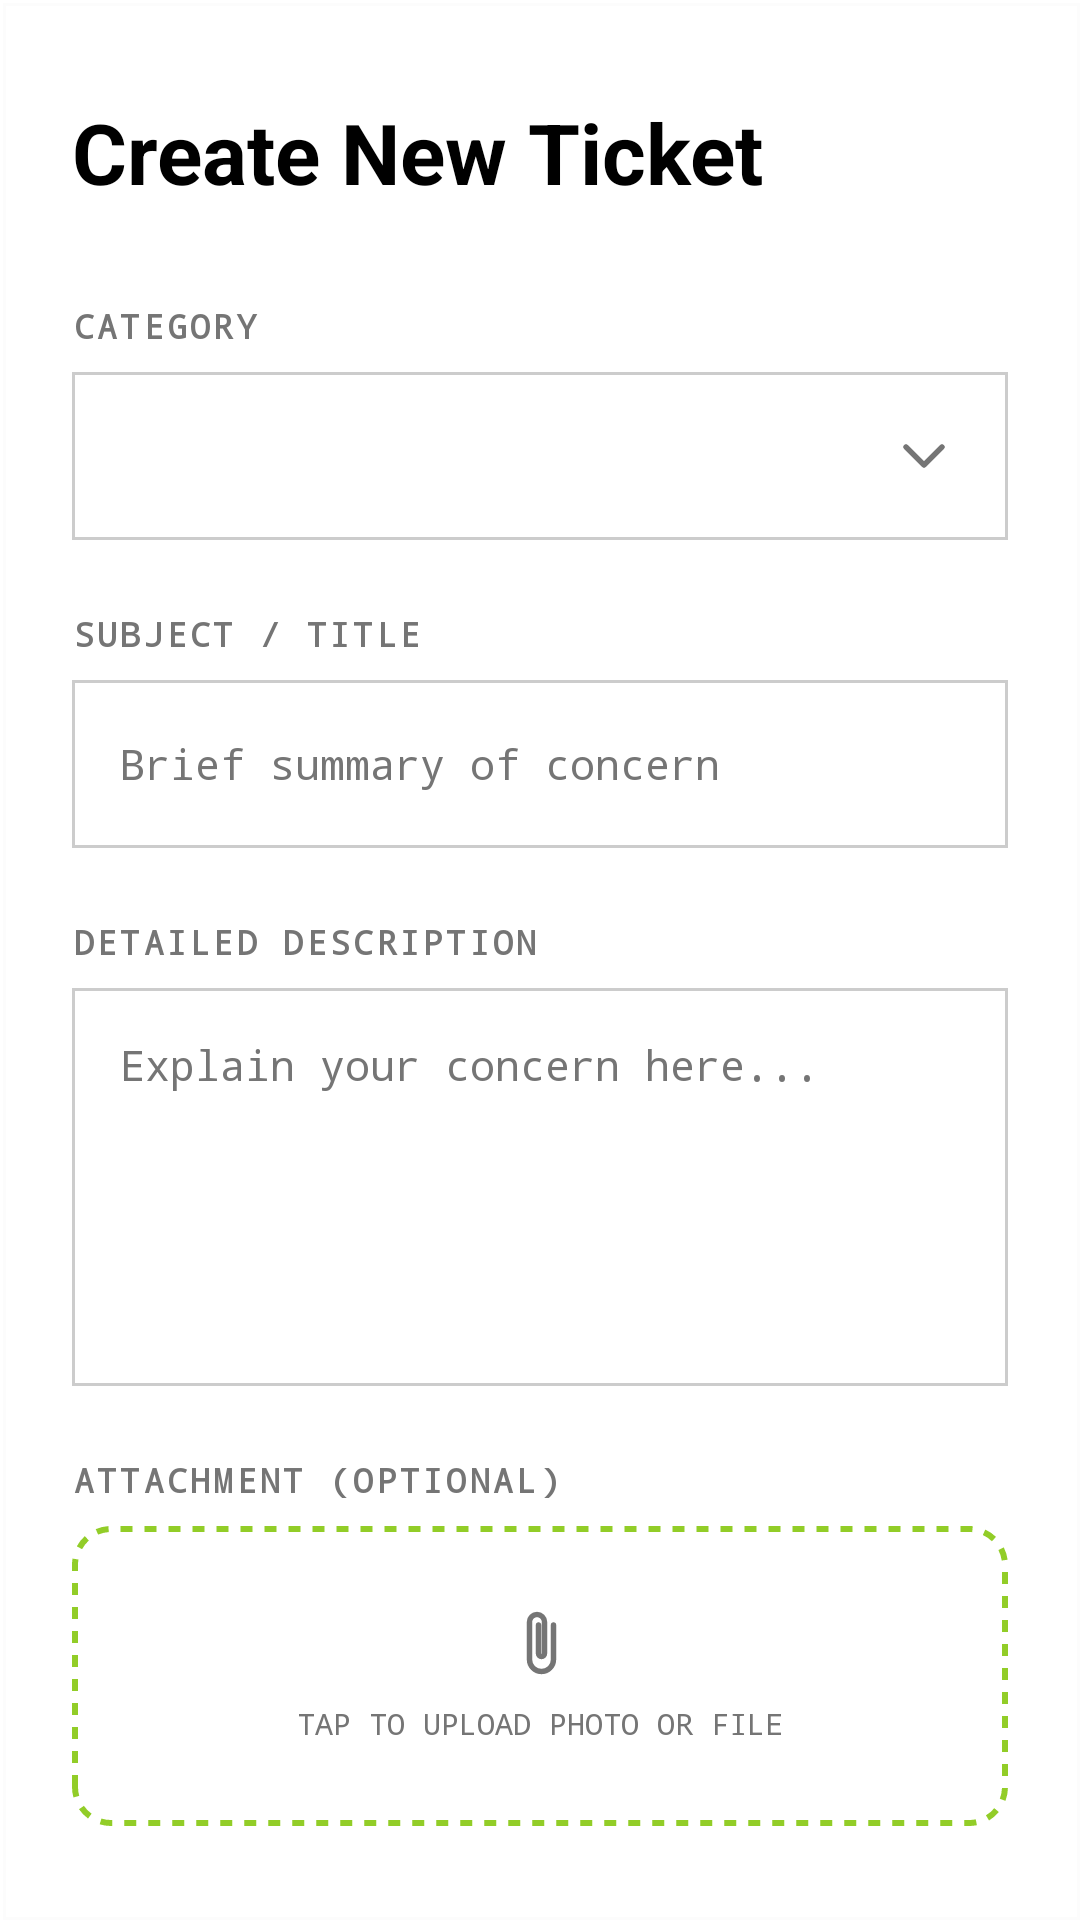

Icon bounding boxes for this 1080 × 1920 phone screenshot, format (x1, y1, x2, y2):
arrow drop down: (903, 444, 945, 468)
